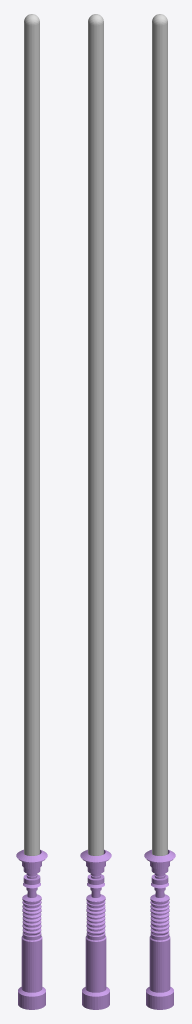
File: lightsaber.fbx
The picture shows the model from 3 angles, left to right: view 1: azimuth 90°, elevation 25°; view 2: azimuth 210°, elevation 25°; view 3: azimuth 270°, elevation 25°; orthographic projection.
Visible parts, largest first — view 1: Blade, Hilt; view 2: Blade, Hilt; view 3: Blade, Hilt.
Part boxes in pixels (bbox=[...]): Blade: bbox=[24, 14, 39, 855]; Hilt: bbox=[16, 849, 47, 1009]; Blade: bbox=[88, 14, 103, 855]; Hilt: bbox=[80, 849, 111, 1009]; Blade: bbox=[152, 14, 167, 855]; Hilt: bbox=[144, 849, 175, 1009].
Size of the model in its own units: 5.16 by 178 by 5.16.
